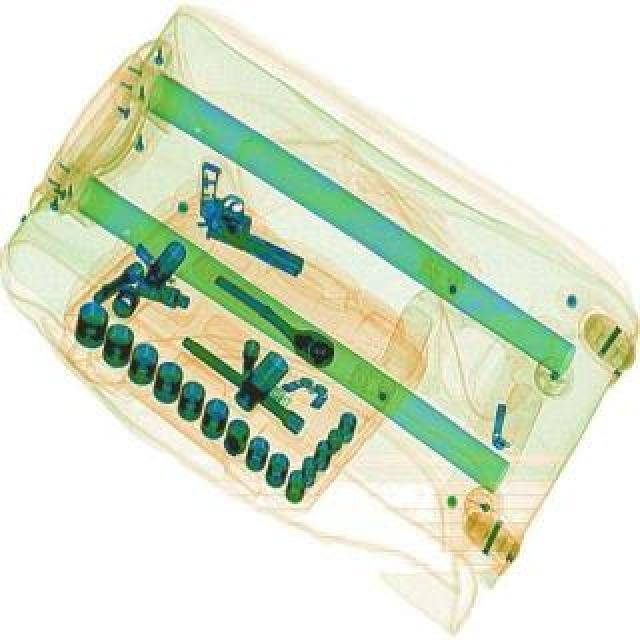gun: (170, 156, 334, 282)
